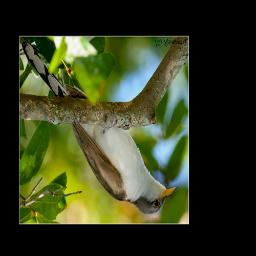Cuckoo: (19, 38, 182, 217)
